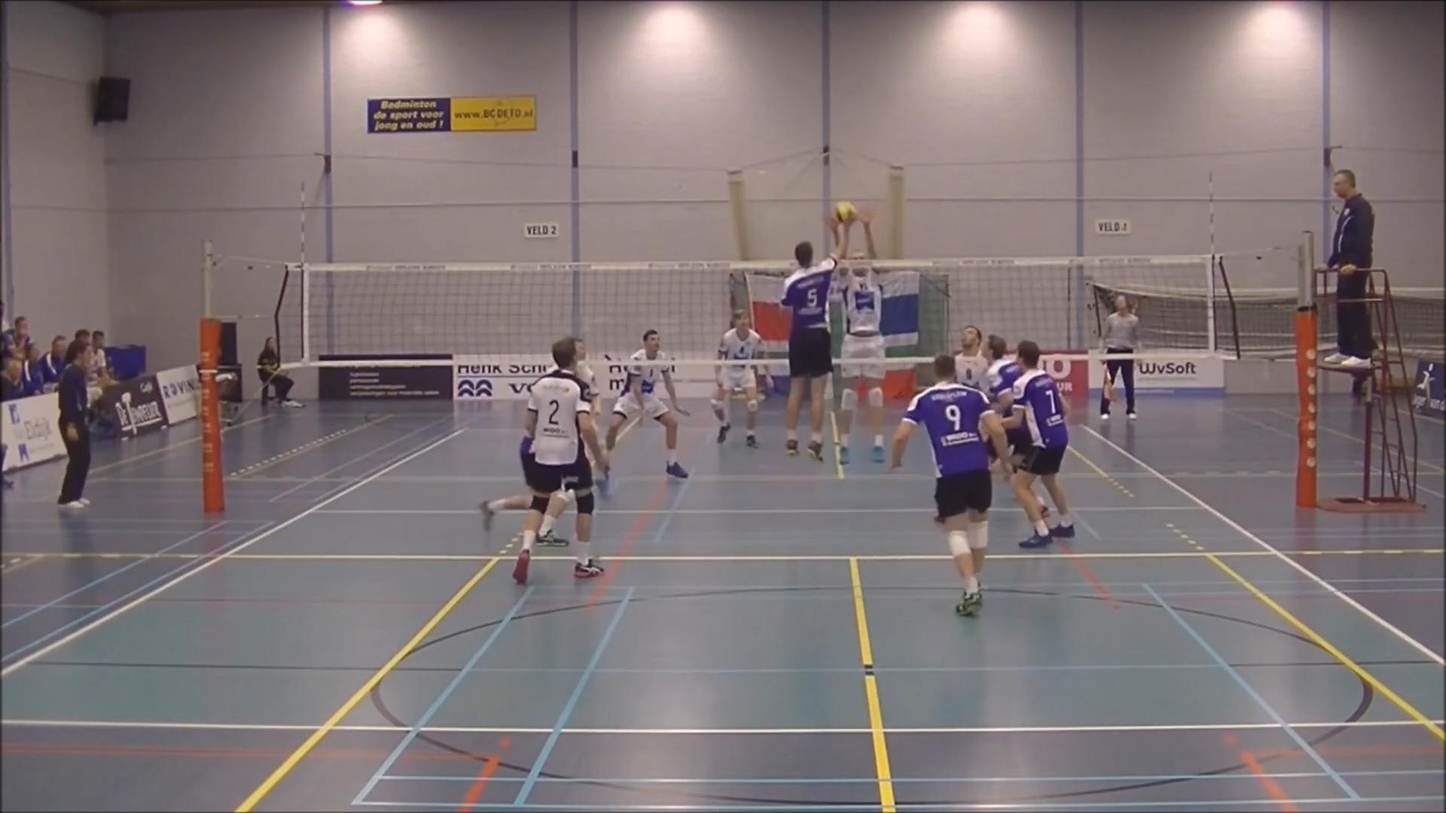Attack: (758, 226, 855, 464)
Block: (818, 202, 896, 469)
Player: (890, 353, 1008, 615), (513, 338, 609, 583), (1012, 340, 1074, 547), (606, 329, 688, 478), (712, 310, 768, 447), (985, 335, 1032, 467), (955, 325, 990, 391), (574, 337, 600, 422)
ball: (831, 201, 861, 222)
